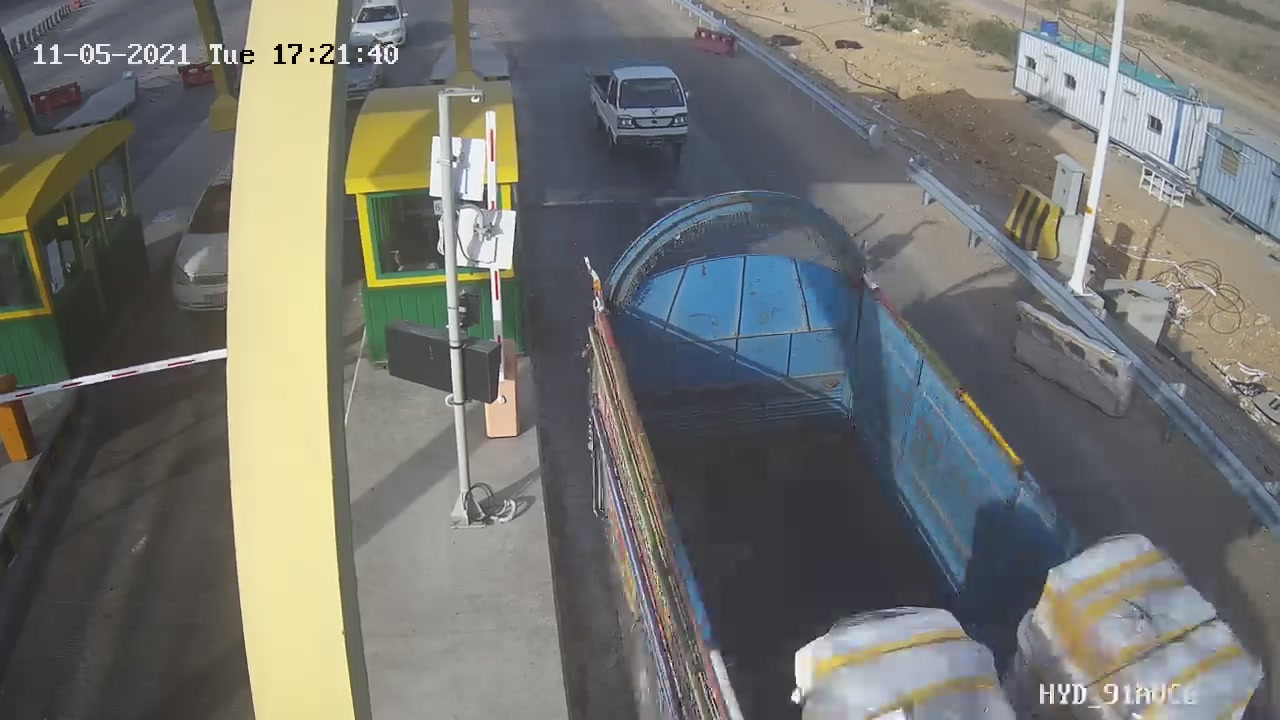F1: (576, 49, 703, 178)
